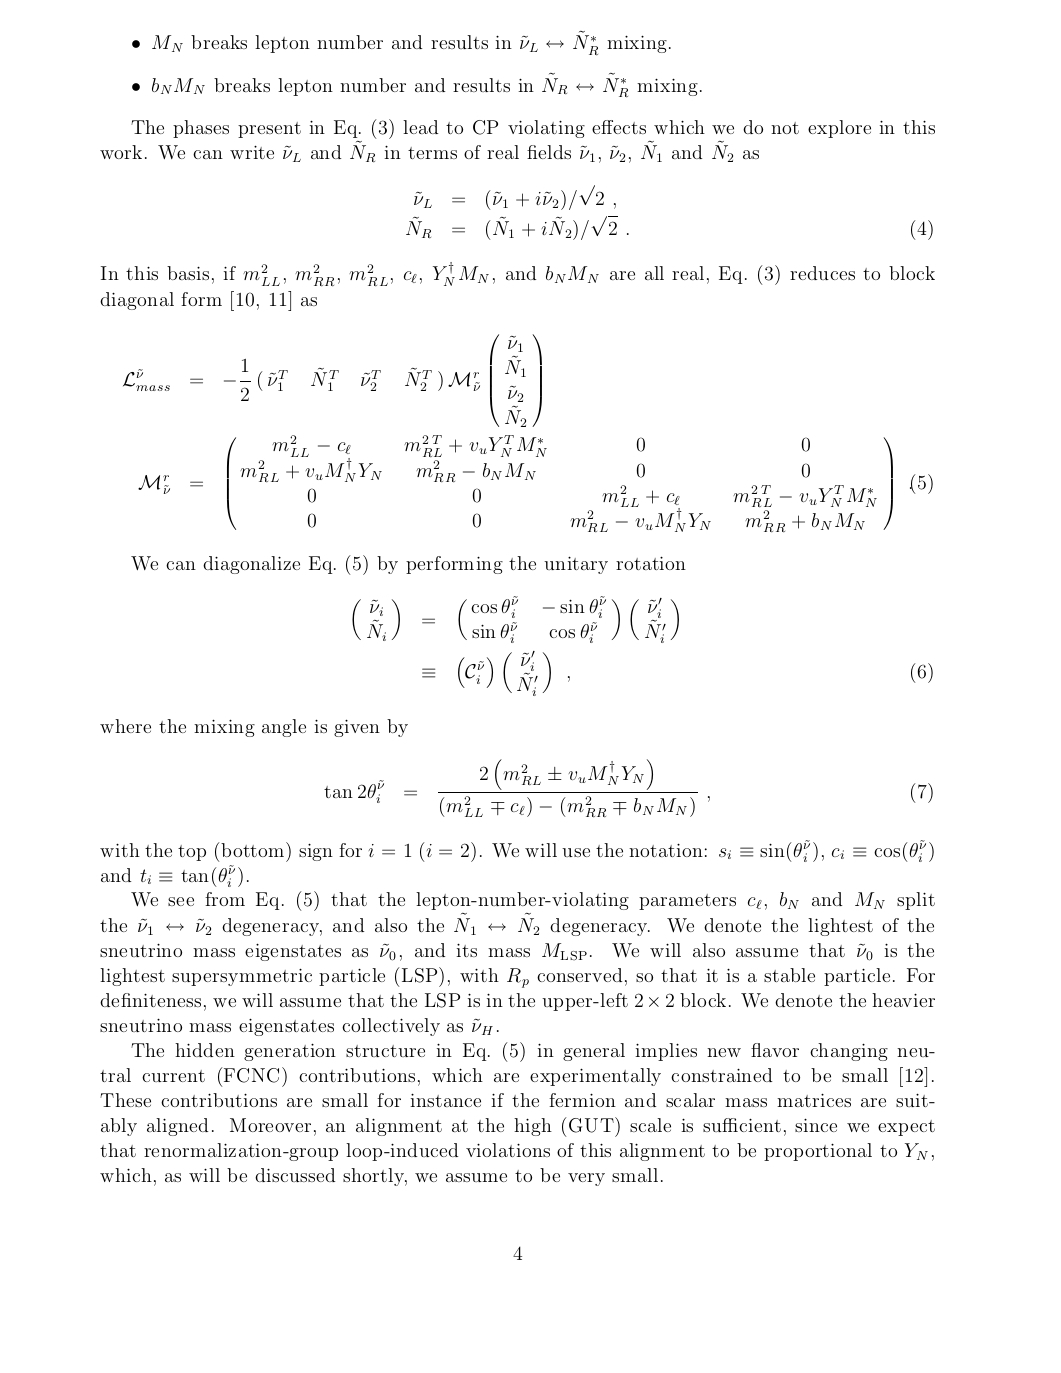formula: (138, 434, 932, 533), (121, 333, 541, 427), (324, 758, 932, 818), (422, 649, 932, 697), (352, 595, 678, 643), (406, 215, 932, 240), (413, 184, 615, 210)
